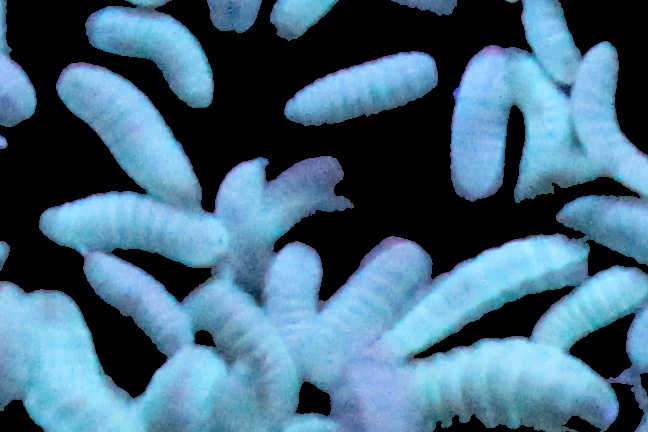larvae: (39, 49, 206, 210), (393, 232, 595, 334), (403, 341, 621, 432), (301, 235, 430, 383), (76, 1, 222, 112), (436, 40, 526, 213), (24, 187, 233, 261), (18, 291, 124, 432), (71, 248, 188, 360), (286, 43, 442, 127), (196, 289, 298, 415), (575, 39, 648, 192), (532, 260, 644, 346), (516, 55, 576, 208), (257, 240, 328, 358), (215, 153, 275, 274), (557, 187, 648, 266), (517, 1, 584, 72)
